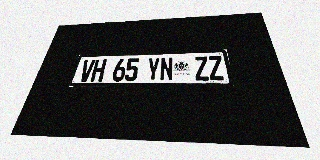5: (124, 58, 139, 81)
6: (111, 59, 127, 81)
H: (90, 59, 107, 82)
N: (160, 57, 173, 81)
V: (78, 60, 95, 82)
Y: (146, 58, 160, 81)
Z: (207, 56, 225, 80), (194, 56, 210, 81)
